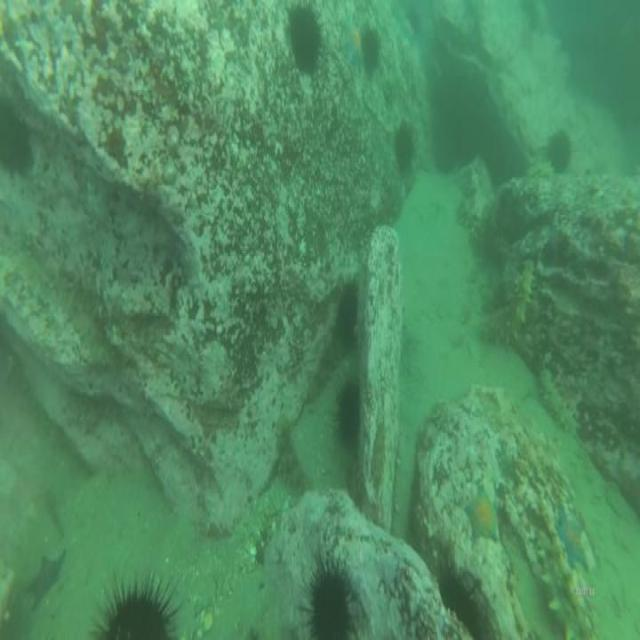echinus: (296, 550, 361, 640), (434, 566, 484, 634), (286, 3, 327, 78), (0, 101, 37, 177), (335, 378, 364, 453), (333, 281, 359, 354), (393, 109, 416, 179), (545, 125, 574, 175), (361, 22, 383, 78)
holothurian: (474, 255, 535, 348), (273, 409, 310, 496), (538, 364, 577, 439)
starfish: (22, 545, 70, 613), (555, 502, 592, 578), (464, 483, 503, 550), (342, 17, 364, 70)
